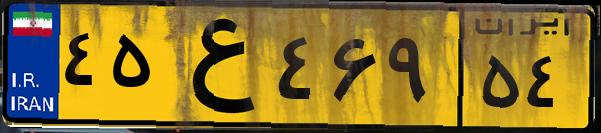4: (270, 28, 330, 110), (57, 26, 110, 100), (525, 38, 570, 115)
5: (475, 38, 525, 113), (110, 28, 158, 98)
6: (330, 28, 385, 110)
9: (385, 28, 445, 110)
ع: (158, 12, 270, 120)
